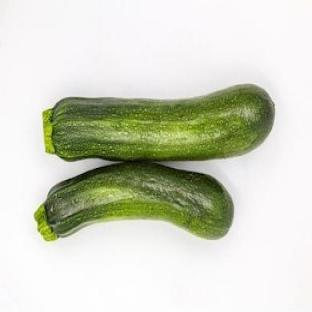Zucchini: (44, 84, 274, 160), (35, 162, 233, 239)
